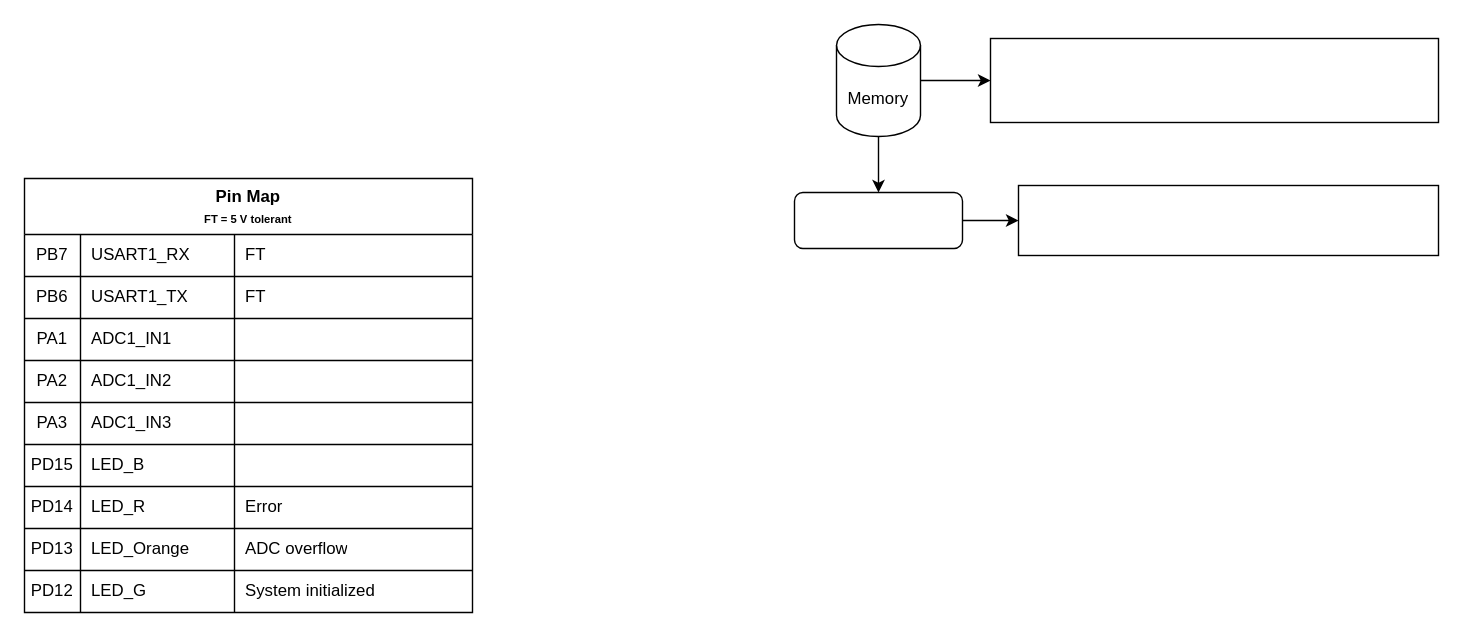
The diagram is 1463 pixels wide and 637 high, and some of its shapes have lost their labels. Each missing label, with the centre of its shape:
"ADC_BUFFER_SIZE = TOTAL number of samples that ADC will store" belongs at (x=1213, y=79).
"Initialization" belongs at (x=877, y=219).
